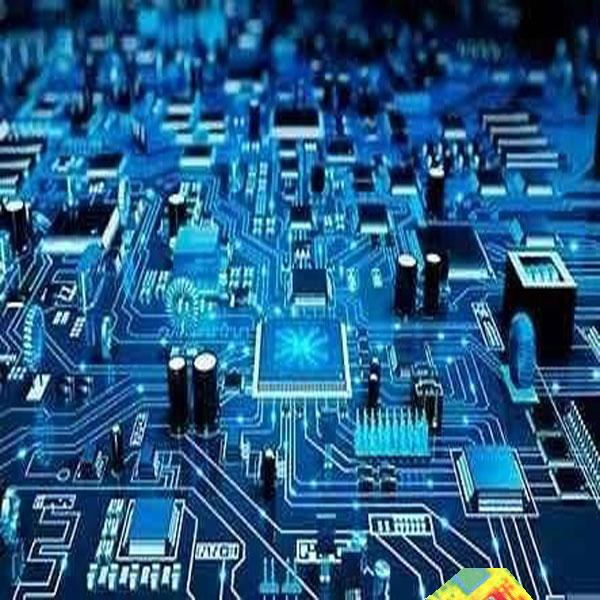componente_T: (422, 563, 536, 600)
